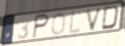3: (16, 16, 31, 41)
D: (100, 5, 120, 31)
L: (68, 10, 82, 35)
O: (50, 12, 67, 36)
P: (32, 13, 50, 40)
V: (86, 6, 104, 32)
